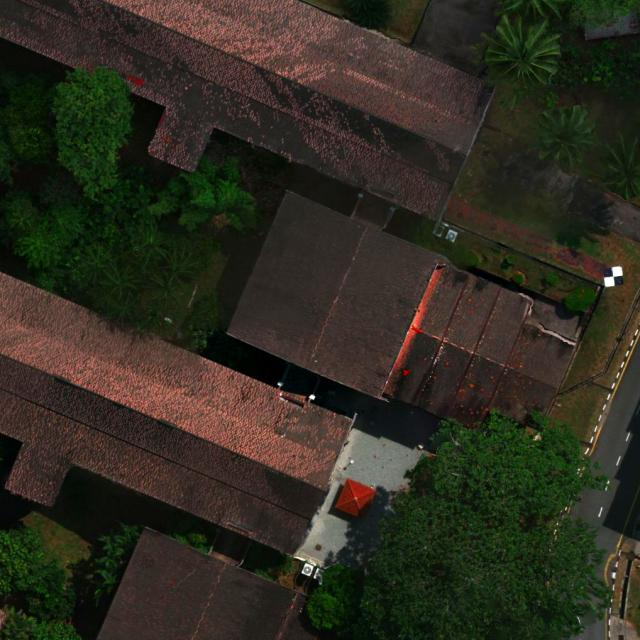Tree: (360, 487, 614, 640), (428, 409, 610, 521), (51, 65, 136, 202), (147, 154, 265, 233), (0, 68, 55, 185), (481, 13, 563, 86), (12, 199, 88, 270), (304, 562, 366, 640), (535, 104, 602, 174), (579, 130, 640, 201), (0, 524, 49, 597), (28, 559, 77, 620), (0, 607, 90, 640), (0, 188, 40, 246), (157, 241, 207, 276), (499, 0, 569, 23), (131, 223, 170, 264), (100, 258, 136, 299), (77, 244, 111, 284), (148, 272, 185, 306), (104, 296, 141, 326), (93, 569, 121, 607), (94, 546, 125, 569), (96, 528, 128, 550), (116, 519, 141, 543)
